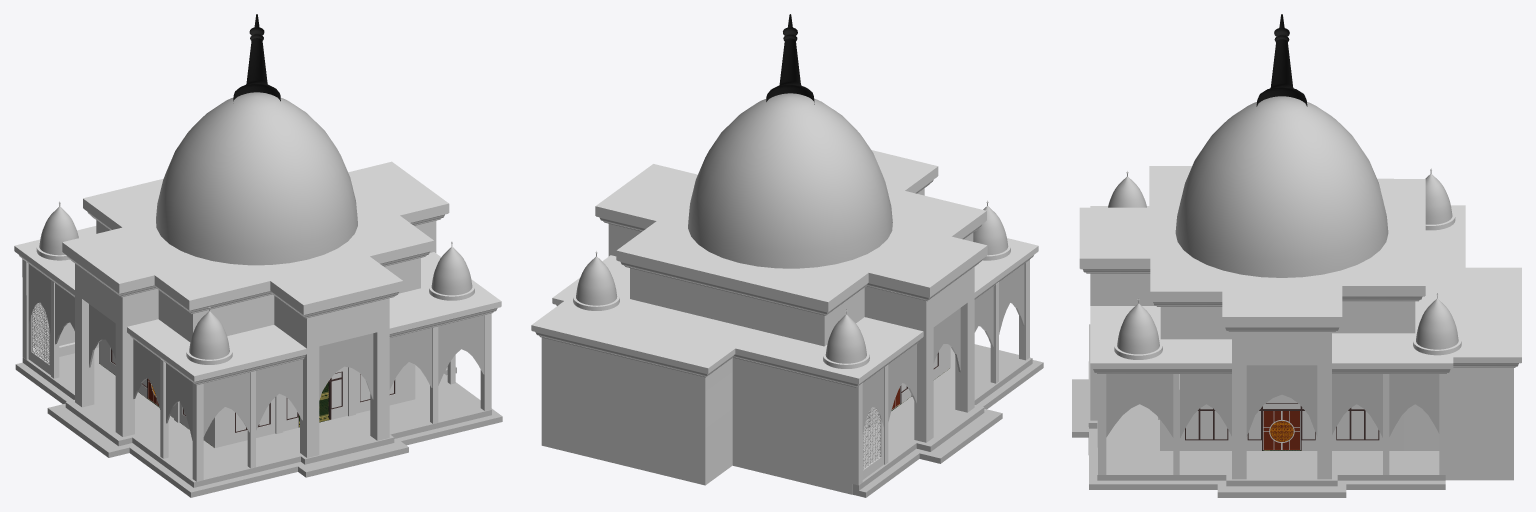
Rendered from Small Mosque1.fbx.
3 renders of one model, left to right at view 1: azimuth 30°, elevation 25°; view 2: azimuth 150°, elevation 25°; view 3: azimuth 270°, elevation 25°, orthographic. The views are drawn at different scales.
Parts seen in each view (by area): view 1: Sphere, Plane.047, Plane.066, Plane.042, Cube.002, Plane, Cube.003, Plane.020, Plane.019, Circle.002, Circle.003, Circle.004 (+12 smaller); view 2: Plane.020, Sphere, Plane.047, Plane, Cube.003, Plane.066, Plane.042, Circle.006, Circle.004, Sphere.001, Circle.003, Plane.046 (+5 smaller); view 3: Sphere, Plane.047, Plane, Plane.066, Plane.020, Plane.042, Cube.001, Cube.002, Plane.031, Plane.023, Cube.003, Circle.006 (+11 smaller).
Part boxes in pixels (x1,y1,x2,y2): Sphere: (156, 92, 357, 265); Plane.047: (62, 161, 449, 318); Plane.066: (15, 347, 502, 497); Plane.042: (28, 264, 484, 440); Cube.002: (158, 258, 420, 457); Plane: (14, 226, 501, 385); Cube.003: (75, 220, 158, 436); Plane.020: (33, 303, 415, 447); Plane.019: (319, 333, 373, 400); Circle.002: (429, 242, 474, 300); Circle.003: (186, 306, 232, 364); Circle.004: (36, 201, 78, 260); Plane.020: (541, 337, 950, 494); Sphere: (688, 93, 892, 268); Plane.047: (595, 150, 987, 315); Plane: (531, 238, 1038, 387); Cube.003: (630, 267, 974, 442); Plane.066: (852, 344, 1043, 497); Plane.042: (862, 264, 1024, 479); Circle.006: (573, 251, 619, 310); Circle.004: (823, 309, 869, 368); Sphere.001: (766, 14, 814, 104); Circle.003: (973, 200, 1010, 260); Plane.046: (851, 383, 862, 485); Sphere: (1175, 96, 1388, 277); Plane.047: (1079, 166, 1425, 331); Plane: (1090, 205, 1521, 373); Plane.066: (1072, 324, 1445, 497); Plane.020: (1158, 368, 1513, 480); Plane.042: (1106, 374, 1439, 437); Cube.001: (1232, 332, 1331, 479); Cube.002: (1090, 273, 1231, 420); Plane.031: (1246, 365, 1317, 436); Plane.023: (1186, 403, 1378, 439); Cube.003: (1332, 301, 1415, 333); Circle.006: (1413, 293, 1461, 355).
Size of the model in its own units: 2012 by 2086 by 2143.
